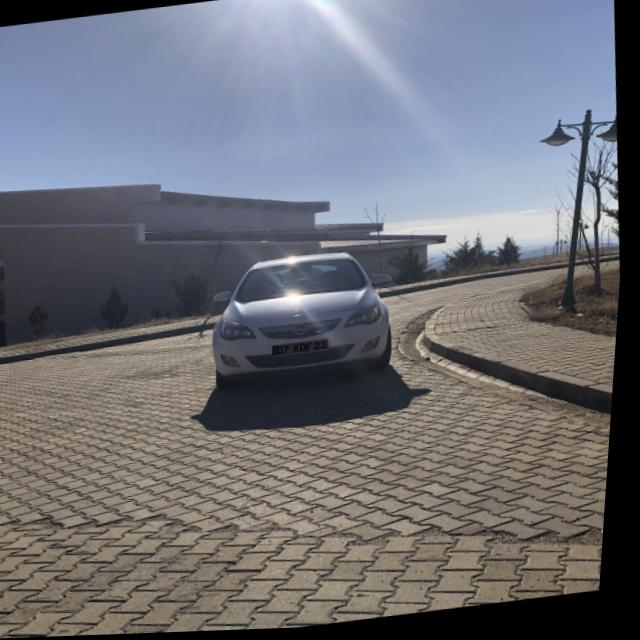license_plate: (276, 341, 334, 358)
